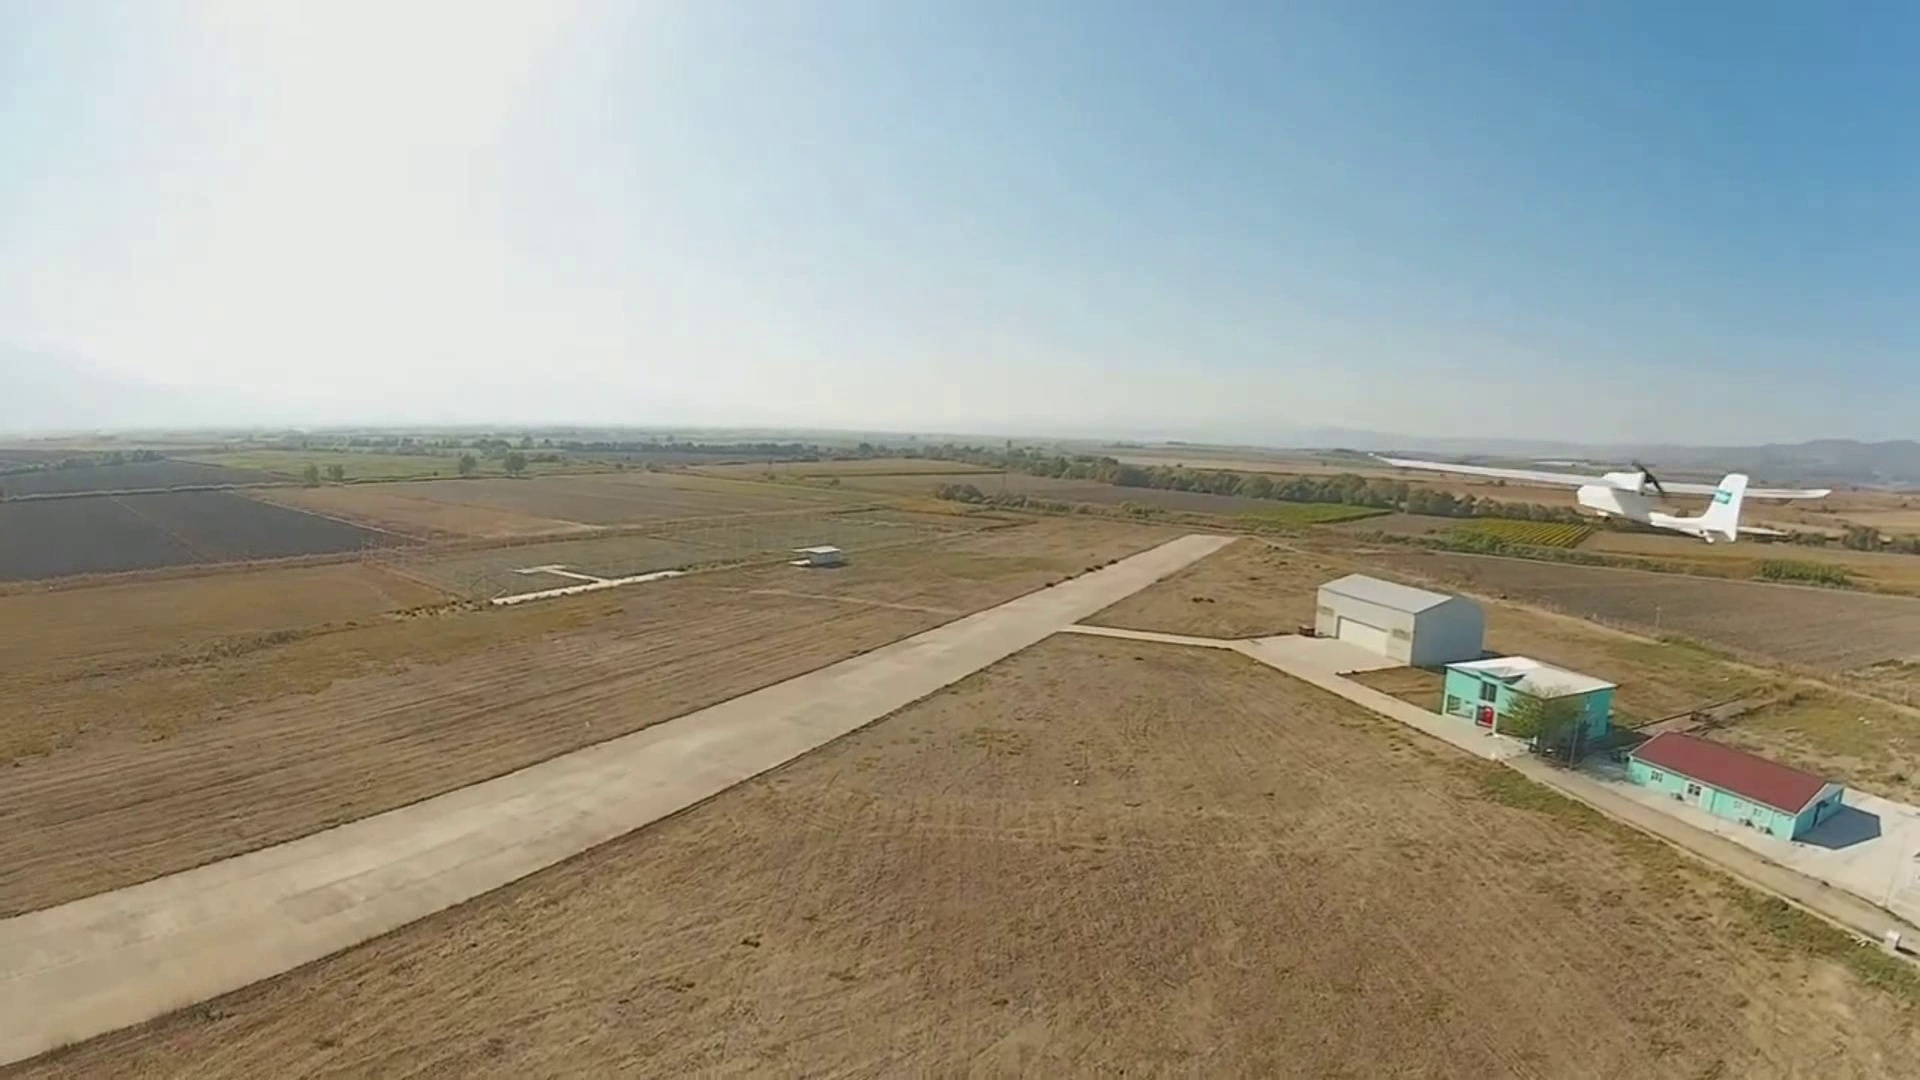airplane: (1571, 467, 1837, 545), (1575, 467, 1763, 543)
